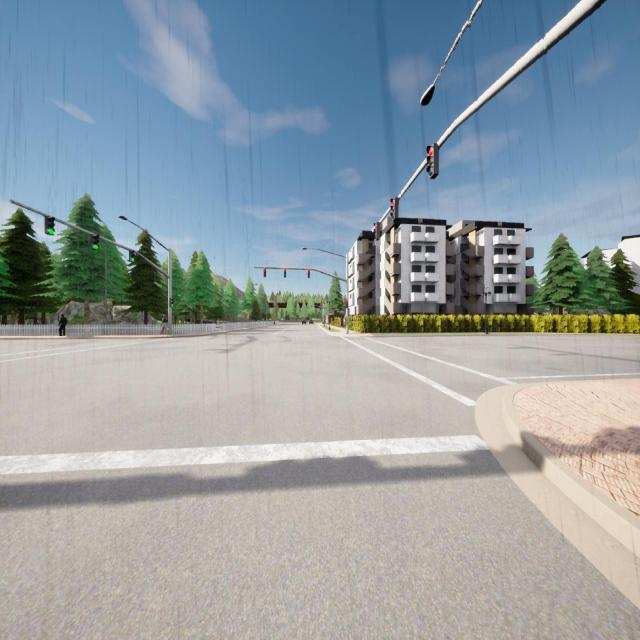Pedestrian: (59, 314, 67, 336), (162, 315, 168, 335)
Vehicle: (309, 320, 314, 325), (302, 319, 306, 325)
traffic_light: (425, 142, 439, 179), (388, 195, 400, 223), (45, 216, 55, 235), (373, 219, 381, 241), (91, 234, 100, 250), (129, 250, 135, 262), (169, 297, 174, 307), (264, 267, 266, 277), (308, 268, 310, 278), (346, 299, 348, 308), (284, 268, 286, 277)
